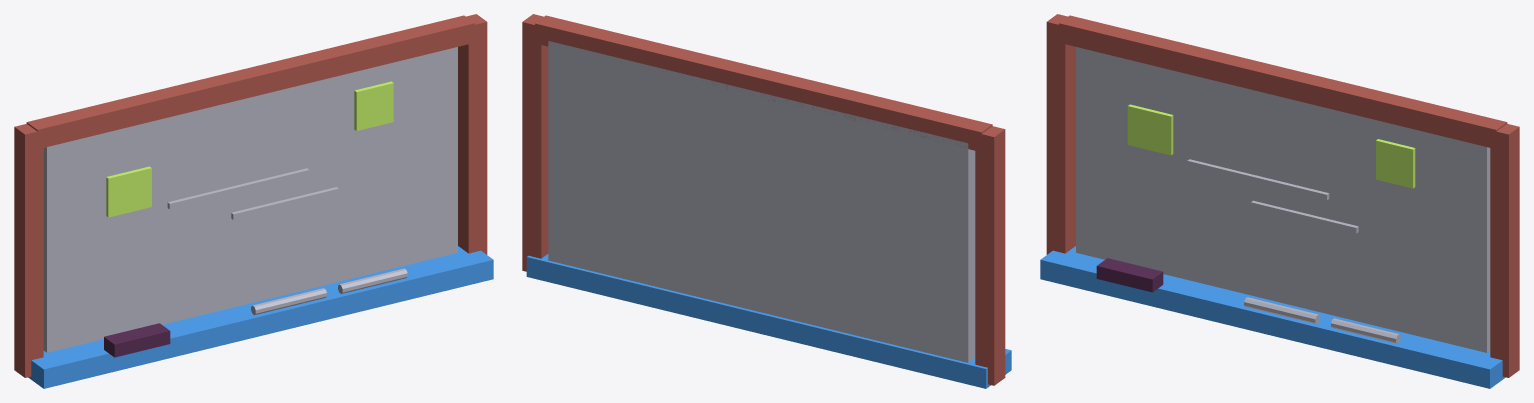
File: whiteboard.obj
The picture shows the model from 3 angles, left to right: view 1: azimuth 30°, elevation 25°; view 2: azimuth 150°, elevation 25°; view 3: azimuth 330°, elevation 25°; orthographic projection. The views are drawn at different scales.
Parts seen in each view (by area): view 1: soft_whiteboard_surface, bottom_wood_tray, top_wood_frame, left_wood_frame, right_wood_frame, sticky_note_left, sticky_note_right, eraser, doodle_line_one, doodle_line_two, marker_one, marker_two; view 2: soft_whiteboard_surface, top_wood_frame, bottom_wood_tray, left_wood_frame, right_wood_frame; view 3: soft_whiteboard_surface, bottom_wood_tray, top_wood_frame, right_wood_frame, left_wood_frame, sticky_note_left, sticky_note_right, eraser, doodle_line_one, doodle_line_two, marker_one, marker_two.
Part boxes in pixels (box(x1,y1,x2,y2)): soft_whiteboard_surface: box(43, 47, 457, 352); bottom_wood_tray: box(28, 246, 493, 388); top_wood_frame: box(26, 15, 474, 149); left_wood_frame: box(14, 123, 43, 377); right_wood_frame: box(458, 14, 487, 254); sticky_note_left: box(106, 166, 151, 217); sticky_note_right: box(354, 81, 393, 130); eraser: box(104, 323, 170, 357); doodle_line_one: box(167, 168, 309, 209); doodle_line_two: box(231, 187, 338, 219); marker_one: box(251, 288, 326, 315); marker_two: box(338, 268, 407, 293); soft_whiteboard_surface: box(548, 41, 975, 362); top_wood_frame: box(535, 15, 992, 152); bottom_wood_tray: box(526, 254, 1011, 388); left_wood_frame: box(975, 126, 1005, 385); right_wood_frame: box(522, 14, 548, 271); soft_whiteboard_surface: box(1076, 47, 1490, 352); bottom_wood_tray: box(1040, 246, 1505, 388); top_wood_frame: box(1059, 15, 1507, 148); right_wood_frame: box(1490, 123, 1519, 377); left_wood_frame: box(1046, 14, 1075, 254); sticky_note_left: box(1127, 104, 1173, 155); sticky_note_right: box(1376, 139, 1415, 188); eraser: box(1096, 258, 1163, 292); doodle_line_one: box(1187, 159, 1329, 200); doodle_line_two: box(1251, 200, 1358, 233); marker_one: box(1244, 297, 1319, 324); marker_two: box(1331, 318, 1400, 343).
Bounding box in the file's own units: 2.98 × 1.53 × 0.36.
